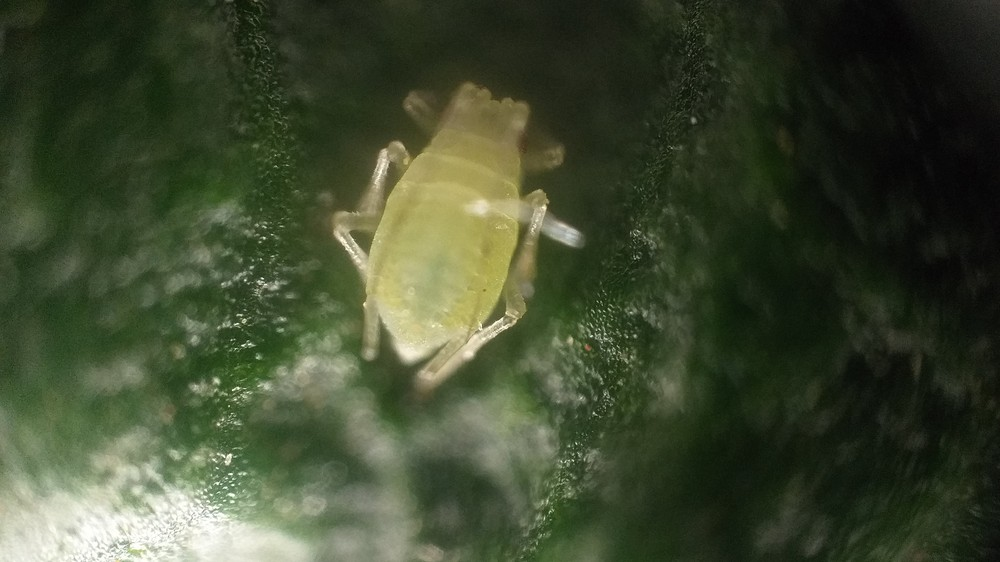Pulgon: (308, 66, 602, 397)
